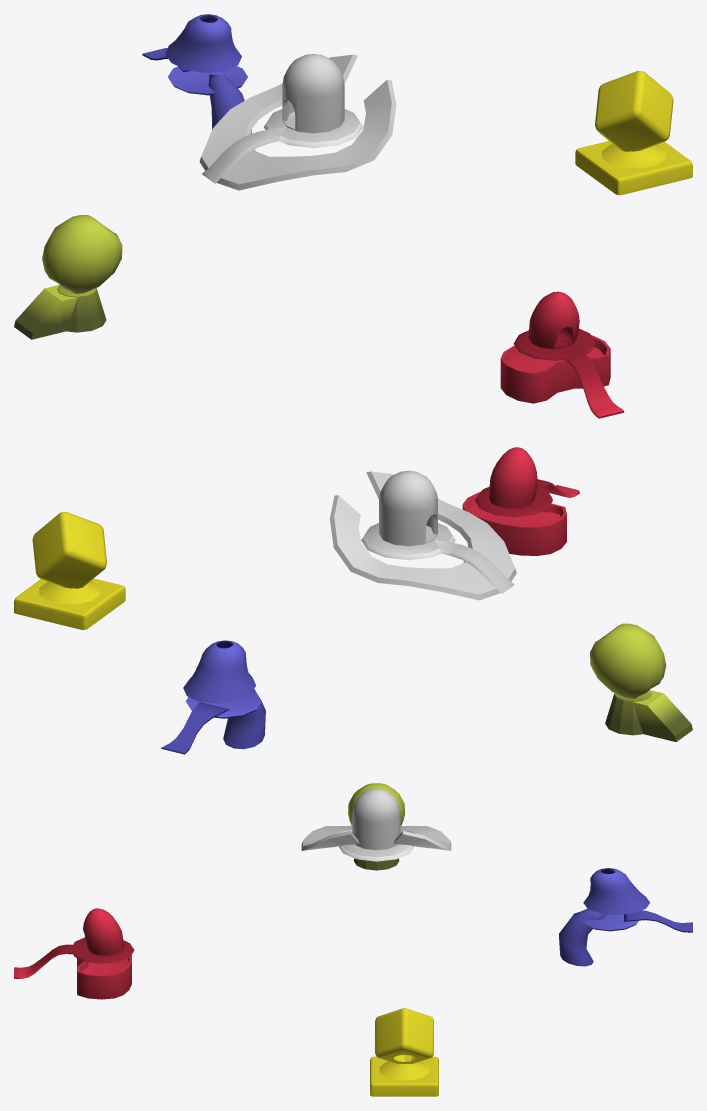
The model's file is houses_01.gltf.
3 views of the same model, one above another, from view 1: azimuth 30°, elevation 25°; view 2: azimuth 150°, elevation 25°; view 3: azimuth 270°, elevation 25° (orthographic). The views are drawn at different scales.
Parts seen in each view (by area): view 1: pCylinder207, pSphere39, pSphere34, pCube94, pSphere48, pCylinder206, pCube95, pSphere49, pCube96, pCylinder208, pCylinder213, pDisc59 (+1 smaller); view 2: pCylinder207, pSphere39, pCube94, pSphere48, pSphere34, pCylinder206, pSphere49, pCube95, pCube96, pCylinder214, pCylinder208, pCube97 (+2 smaller); view 3: pSphere39, pCube94, pSphere34, pSphere49, pCylinder207, pCylinder206, pCube95, pCylinder214, pDisc59, pCube97, pCylinder213, pSphere48.
Part boxes in pixels (bbox=[...]): pCylinder207: bbox=[199, 54, 396, 190]; pSphere39: bbox=[202, 54, 362, 183]; pSphere34: bbox=[513, 291, 624, 418]; pCube94: bbox=[595, 71, 673, 151]; pSphere48: bbox=[42, 215, 122, 293]; pCylinder206: bbox=[500, 335, 610, 403]; pCube95: bbox=[575, 141, 692, 195]; pSphere49: bbox=[165, 14, 241, 72]; pCube96: bbox=[14, 285, 77, 339]; pCylinder208: bbox=[57, 285, 106, 332]; pCylinder213: bbox=[168, 66, 247, 95]; pDisc59: bbox=[602, 144, 666, 168]; pCylinder207: bbox=[329, 471, 516, 600]; pSphere39: bbox=[361, 470, 514, 593]; pCube94: bbox=[32, 512, 106, 588]; pSphere48: bbox=[590, 623, 666, 698]; pSphere34: bbox=[475, 447, 579, 517]; pCylinder206: bbox=[462, 492, 566, 555]; pSphere49: bbox=[183, 640, 256, 703]; pCube95: bbox=[14, 578, 125, 629]; pCube96: bbox=[632, 690, 692, 742]; pCylinder214: bbox=[223, 689, 265, 749]; pCylinder208: bbox=[605, 690, 651, 735]; pCube97: bbox=[161, 702, 229, 754]; pSphere39: bbox=[339, 788, 414, 861]; pCube94: bbox=[375, 1008, 433, 1064]; pSphere34: bbox=[14, 908, 134, 978]; pSphere49: bbox=[583, 868, 649, 914]; pCylinder207: bbox=[301, 825, 451, 850]; pCylinder206: bbox=[77, 955, 131, 999]; pCube95: bbox=[370, 1056, 438, 1096]; pCylinder214: bbox=[559, 909, 606, 966]; pDisc59: bbox=[379, 1061, 429, 1080]; pCube97: bbox=[624, 910, 692, 932]; pCylinder213: bbox=[581, 908, 638, 931]; pSphere48: bbox=[348, 783, 404, 825].
Size of the model in its own units: 110 by 33.54 by 125.
Materials: 1 (1 with a texture image).
